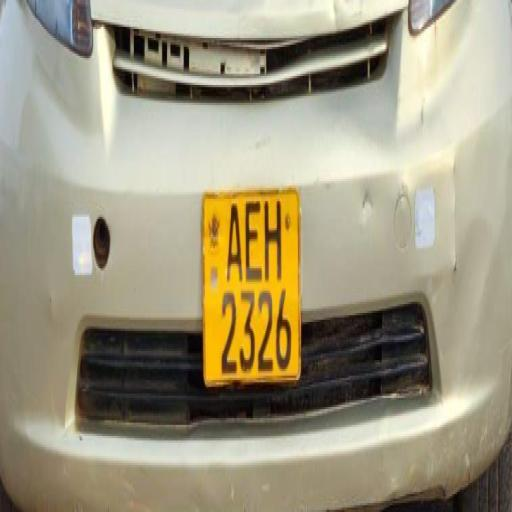number-plates: (206, 187, 293, 381)
